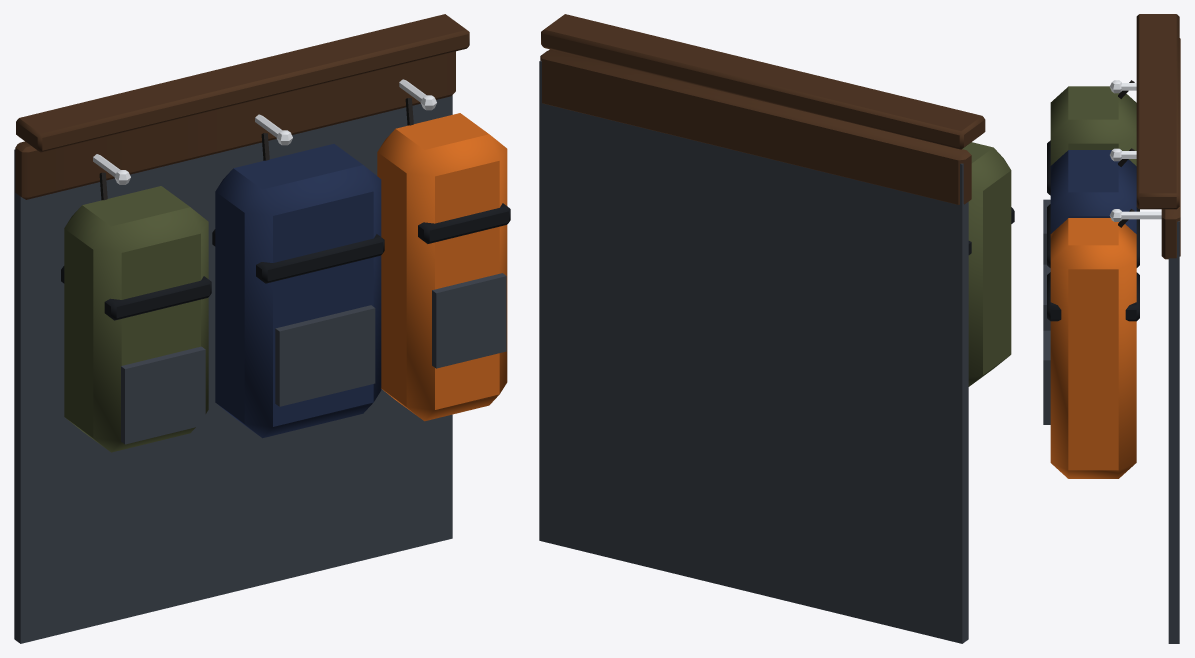
File: locker_kit_bags_on_hooks.glb
3 views of the same model, side by side, from view 1: azimuth 30°, elevation 25°; view 2: azimuth 150°, elevation 25°; view 3: azimuth 270°, elevation 25° (orthographic). The views are drawn at different scales.
Parts seen in each view (by area): view 1: locker_kit_bags_on_hooks; view 2: locker_kit_bags_on_hooks; view 3: locker_kit_bags_on_hooks.
Part boxes in pixels (box(x1,y1,x2,y2)): locker_kit_bags_on_hooks: box(14, 14, 510, 643); locker_kit_bags_on_hooks: box(539, 14, 1014, 643); locker_kit_bags_on_hooks: box(1043, 14, 1180, 643).
Size of the model in its own units: 1.21 by 1.38 by 0.383.
